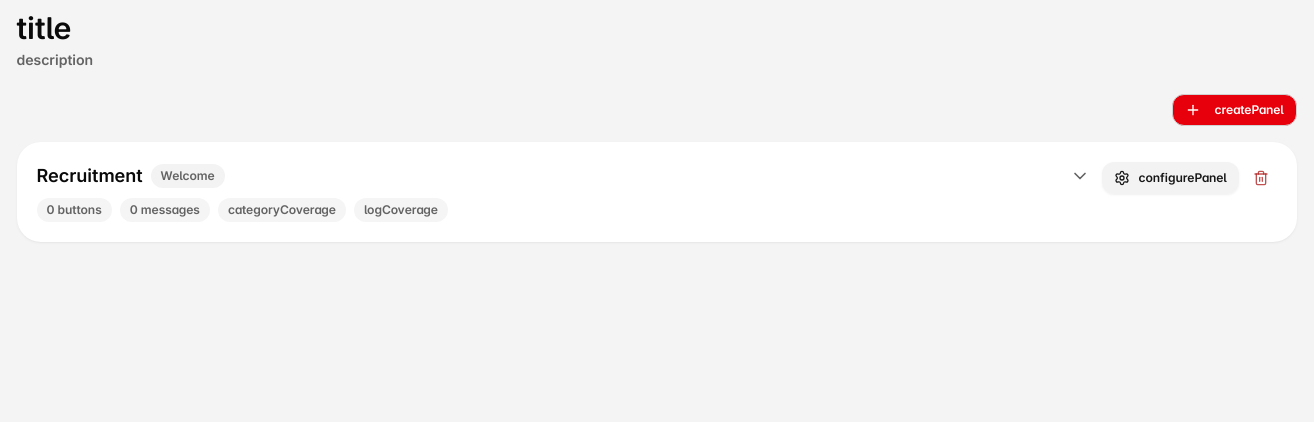
Test: TicketsPage after open-ticket retirement › keeps ticket previews collapsed until their summary is expanded
Check: the text "Preview body" is not shown
Click the button "Recruitment" at (90, 176), box [36,162,1090,222]
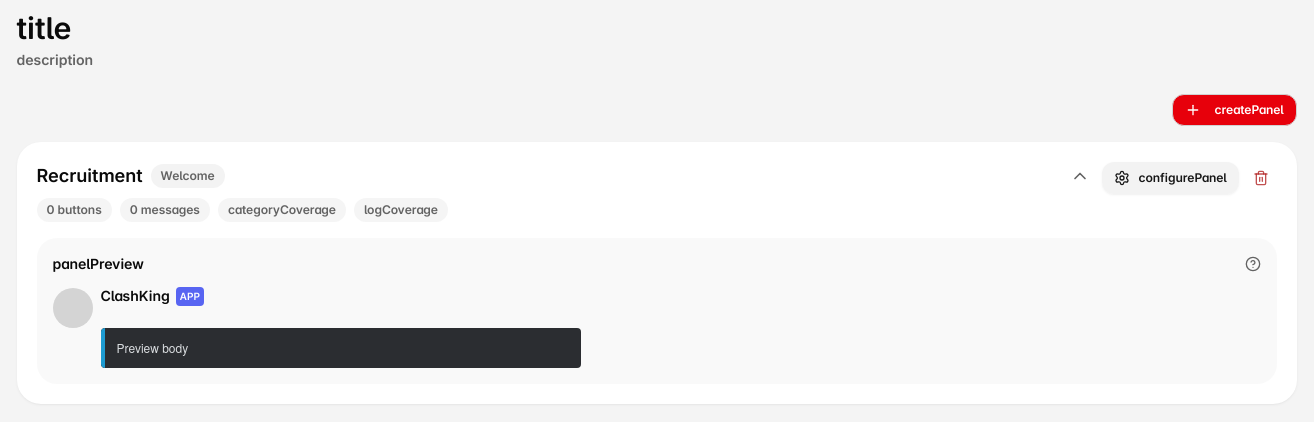
Check: the text "Preview body" is shown, box [116,339,188,356]
Check: the button "Recruitment" is expanded, box [36,162,1090,222]
